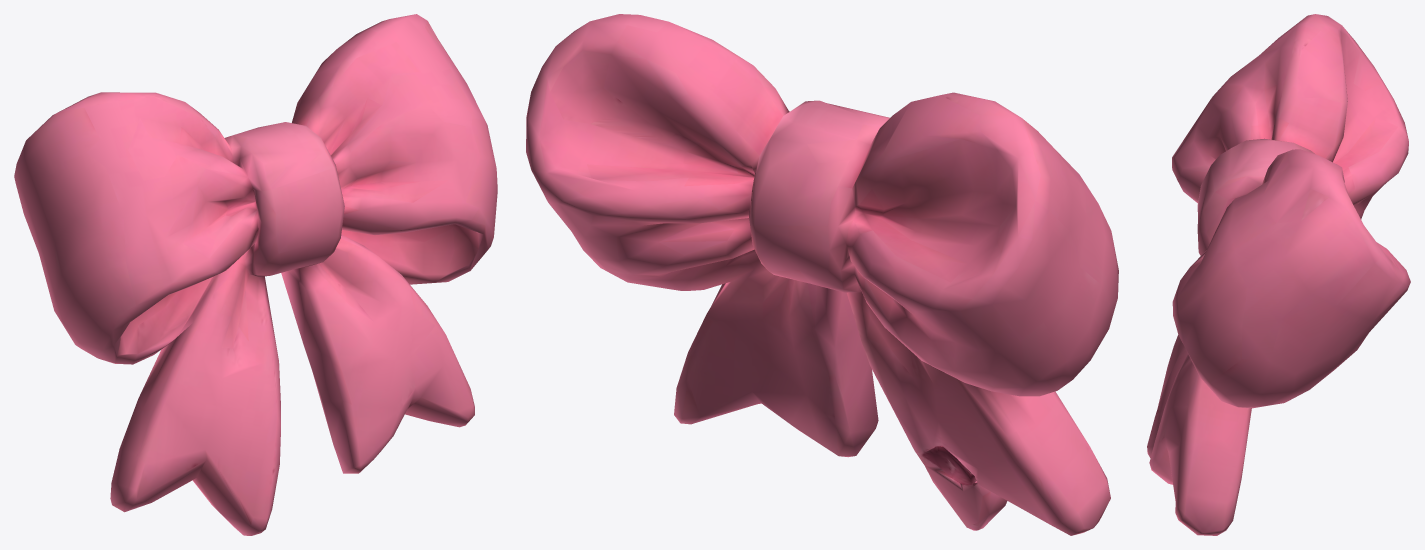
The picture shows the model from 3 angles, left to right: view 1: azimuth 30°, elevation 25°; view 2: azimuth 150°, elevation 25°; view 3: azimuth 270°, elevation 25°; orthographic projection. The views are drawn at different scales.
Parts seen in each view (by area): view 1: mane-bow; view 2: mane-bow; view 3: mane-bow.
Boxes of the visible parts, x1,y1,x2,y2 form: mane-bow: (14,14,497,535); mane-bow: (526,14,1118,535); mane-bow: (1147,14,1410,535).
Bounding box in the file's own units: 0.1751 × 0.1633 × 0.0941.
Materials: 1 (1 with a texture image).
